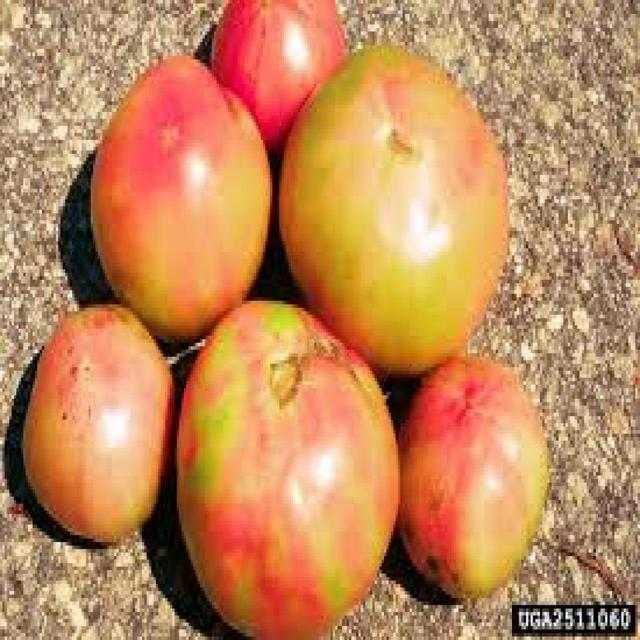Spotted wilt Virus Fruit: (65, 51, 316, 314)
